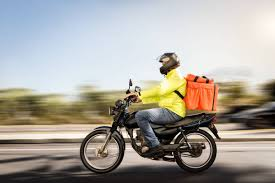motorcycle: (77, 78, 221, 176)
